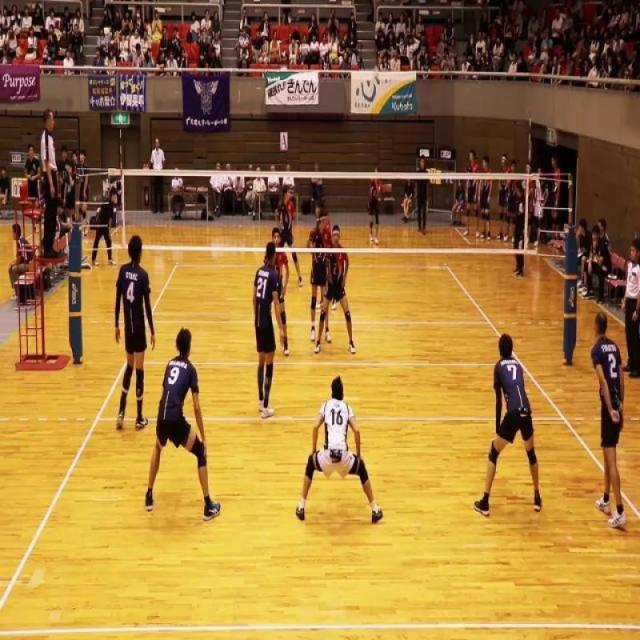volleyball: (372, 65, 379, 82)
